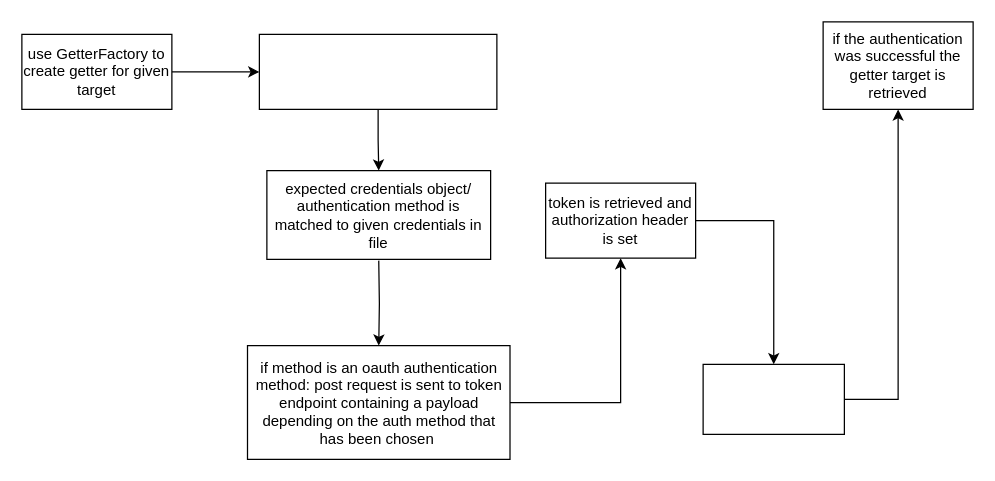
This 995x481 diagram has some shape labels left out. Here are the shapes that lost their labels. From the top down, the box of each, then its label:
(258, 33, 497, 109): load file from path given in env variable LOGPREP_CREDENTIALS_FILE
(702, 363, 844, 434): getter target is requested
